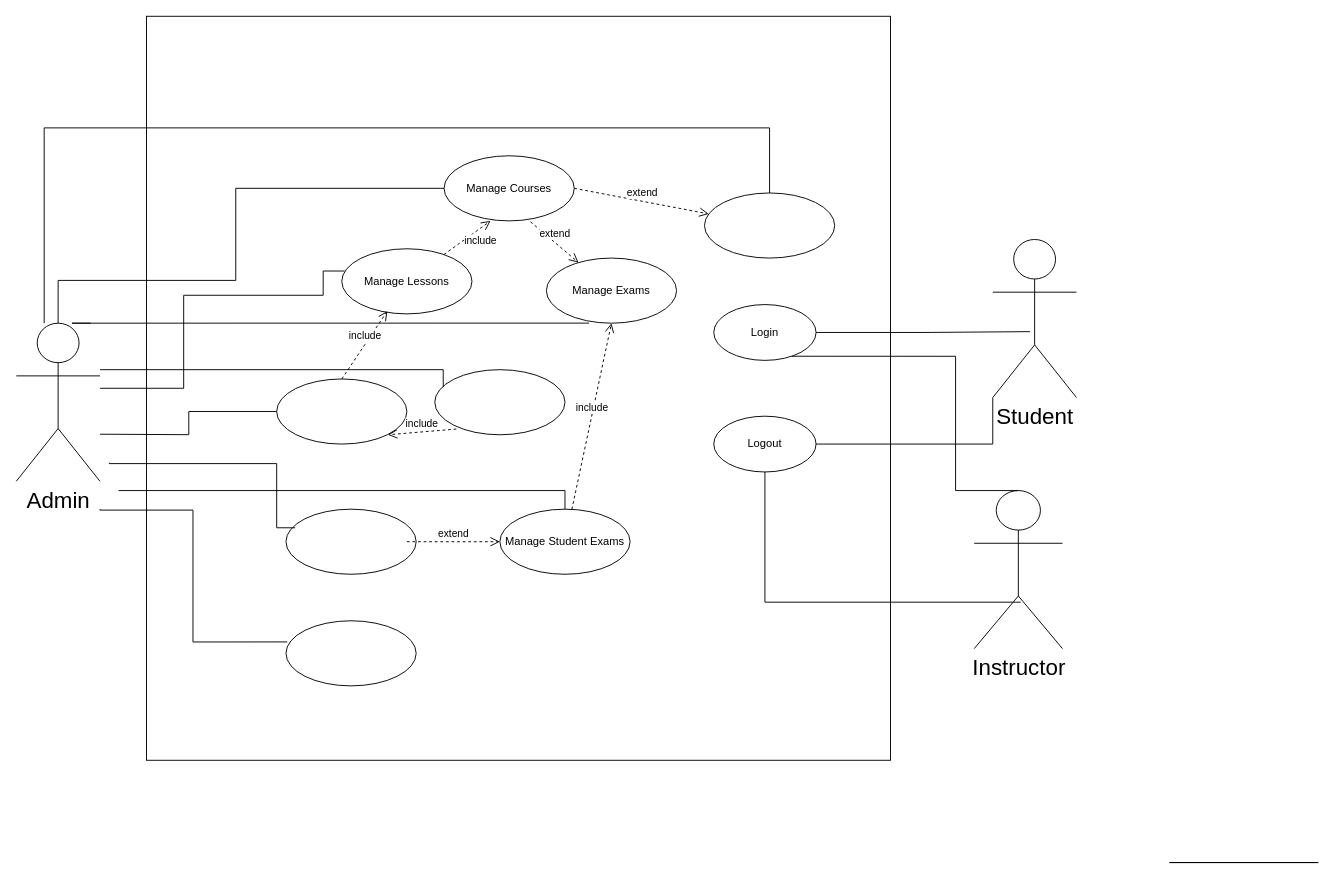
Image size: 1335x880. Some labels were removed from this diagram. Each missing label, with the centre of its shape:
"Manage Attendance" belongs at (341,411).
"Manage Course Files" belongs at (769,225).
"Manage Instructors" belongs at (350,653).
"Manage Student recitation" belongs at (499,402).
"Manage Students" belongs at (350,541).
